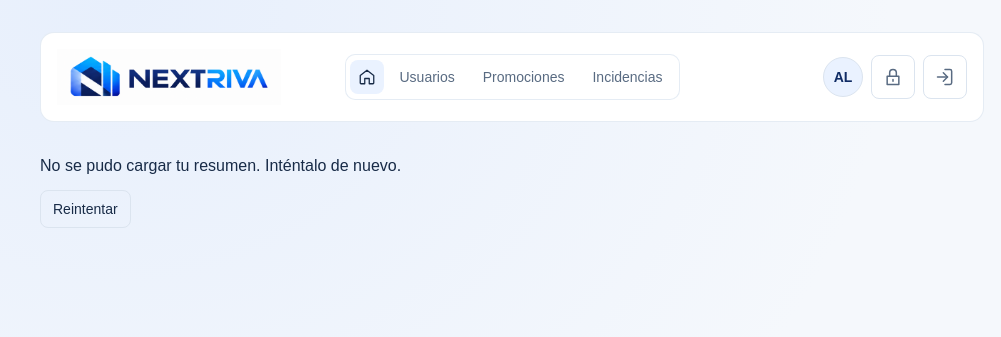
Test: blocks logout without Web Locks before obtaining CSRF or mutating a session
Click the button named "Cerrar sesión" at (945, 77), box [923,55,967,99]
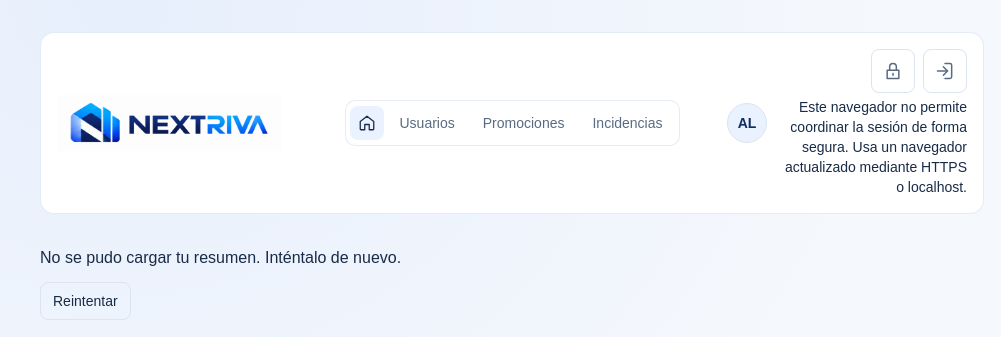
expect the text "Este navegador no permite coordinar la sesión de forma segura. Usa un navegador actualizado mediante HTTPS o localhost." is shown: met, box [785,99,967,195]
